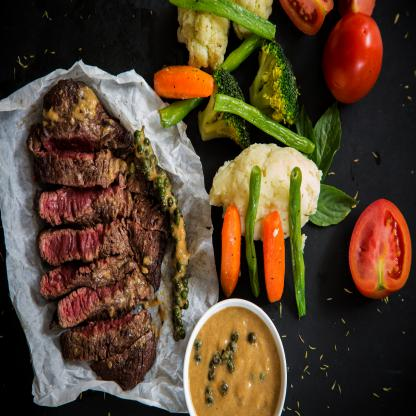Carne: (35, 79, 134, 146), (20, 129, 114, 188), (60, 309, 161, 363), (33, 254, 146, 302), (32, 182, 137, 230), (41, 280, 160, 322), (81, 329, 159, 390), (35, 221, 143, 262)
